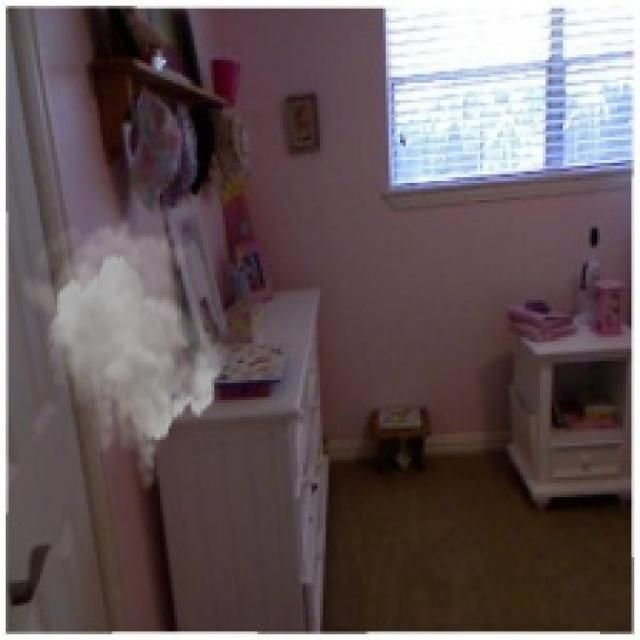Smoke: (20, 217, 226, 494)
